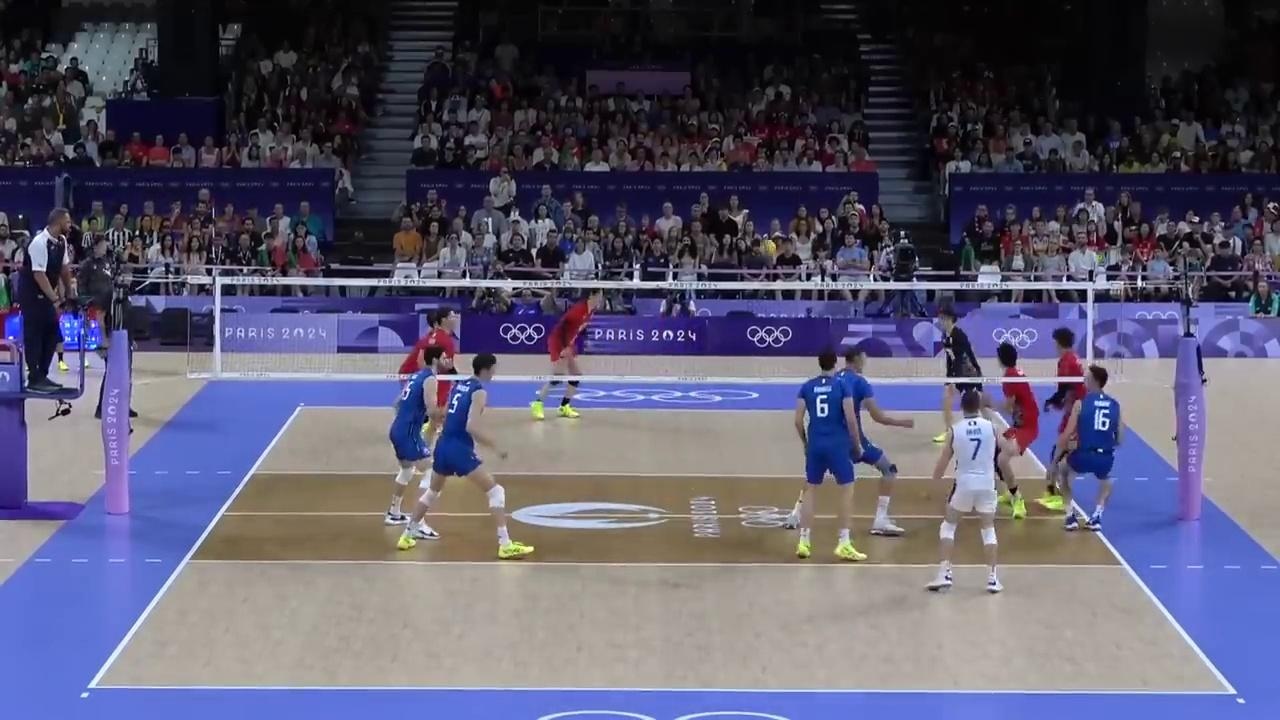ball: (760, 239, 777, 257)
